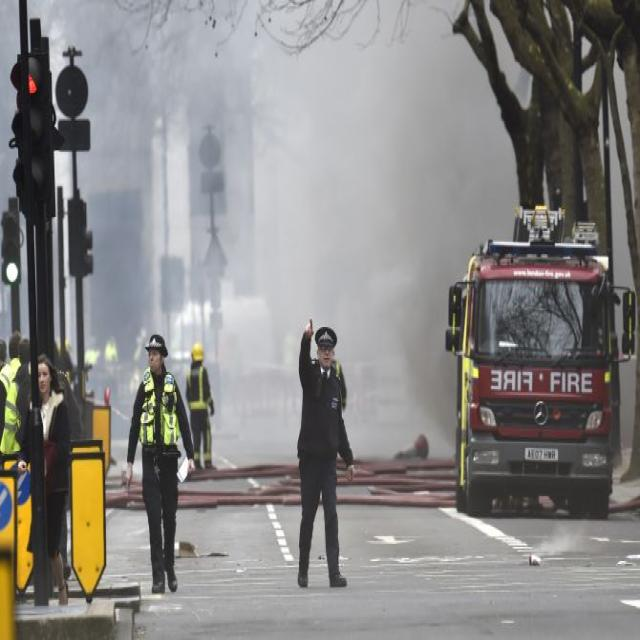emergency: (446, 207, 636, 516)
